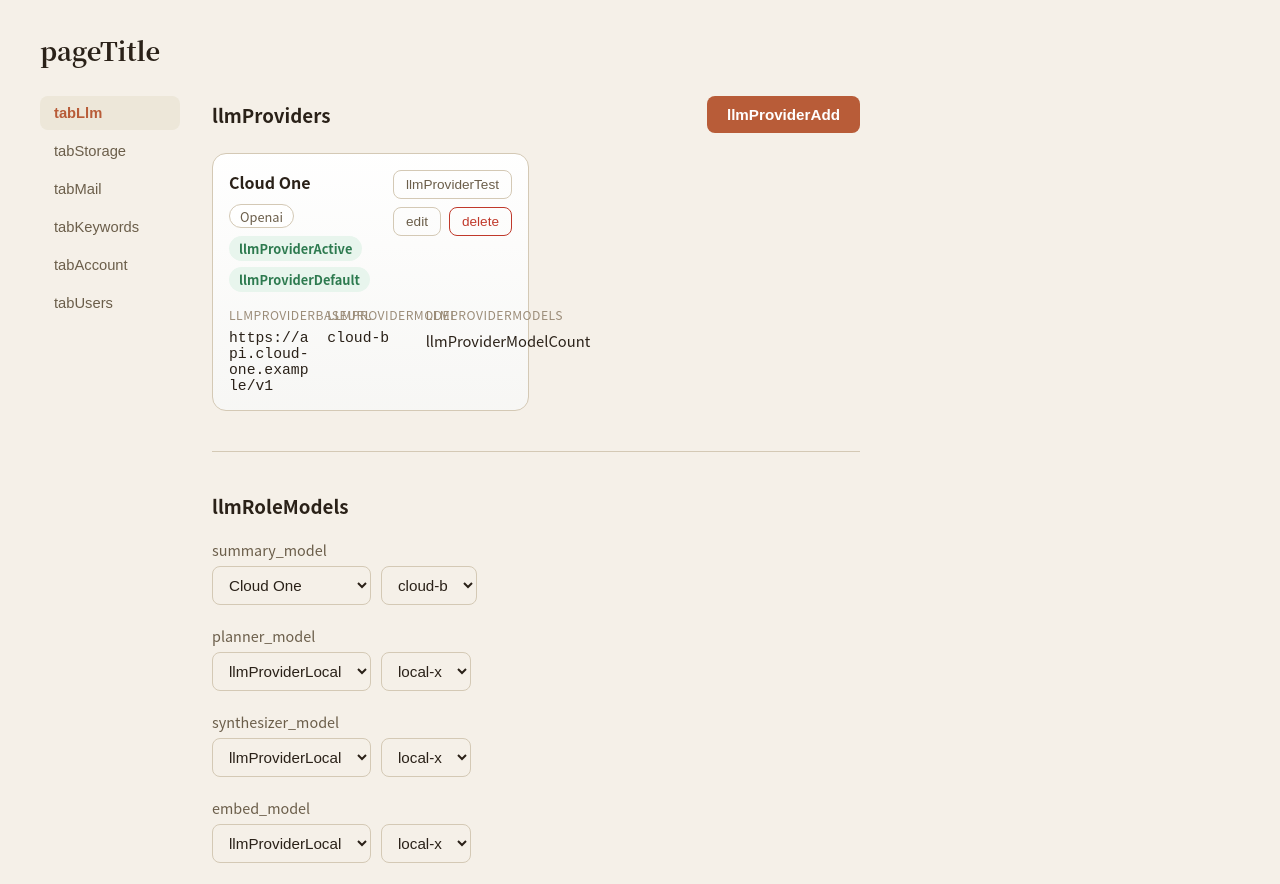
Test case: Settings LLM provider/mobile behavior › keeps form open and blocks create when validation fails
Click the button "llmProviderAdd": (783, 114) [707, 96, 860, 133]
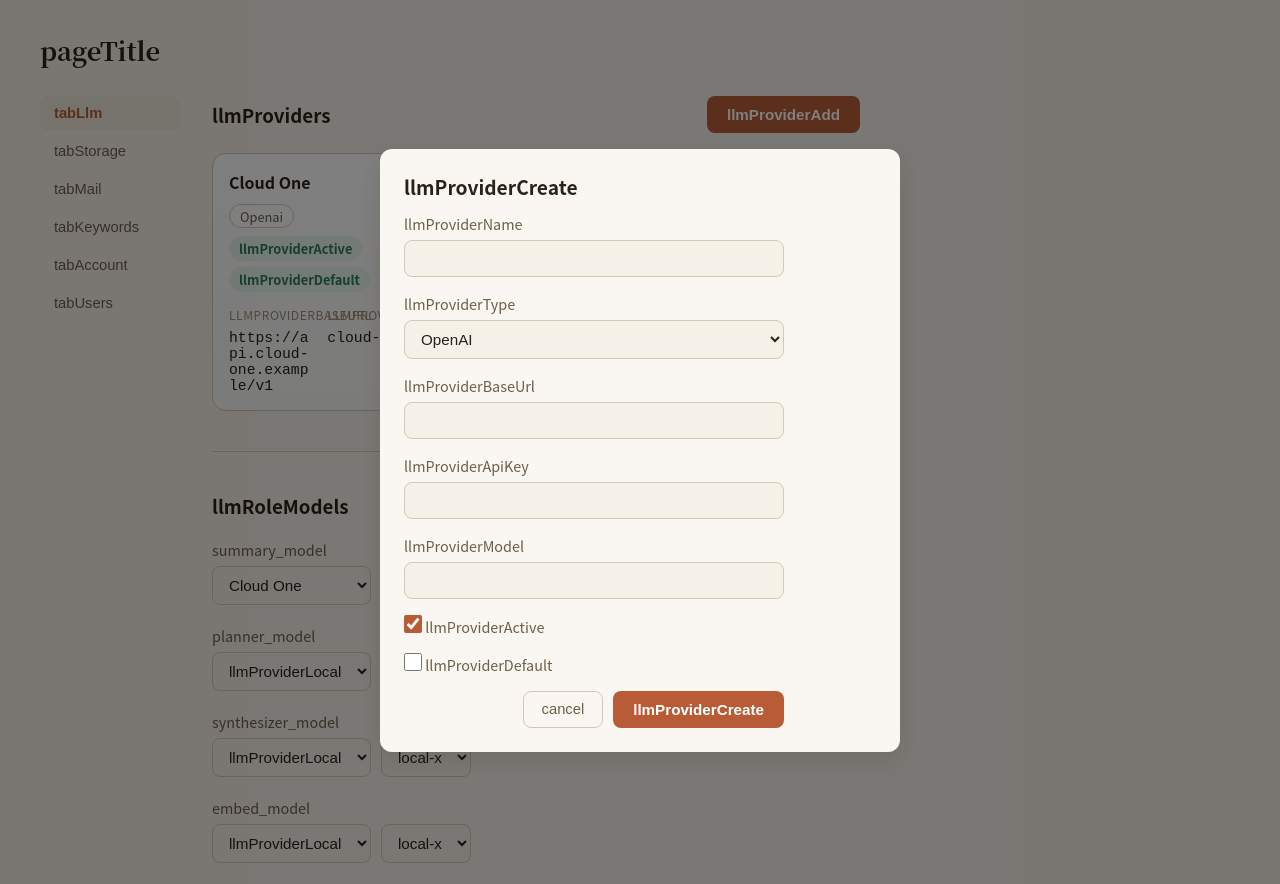
In the field below "llmProviderName": (594, 258) [404, 240, 784, 276], type "Cloud Two"
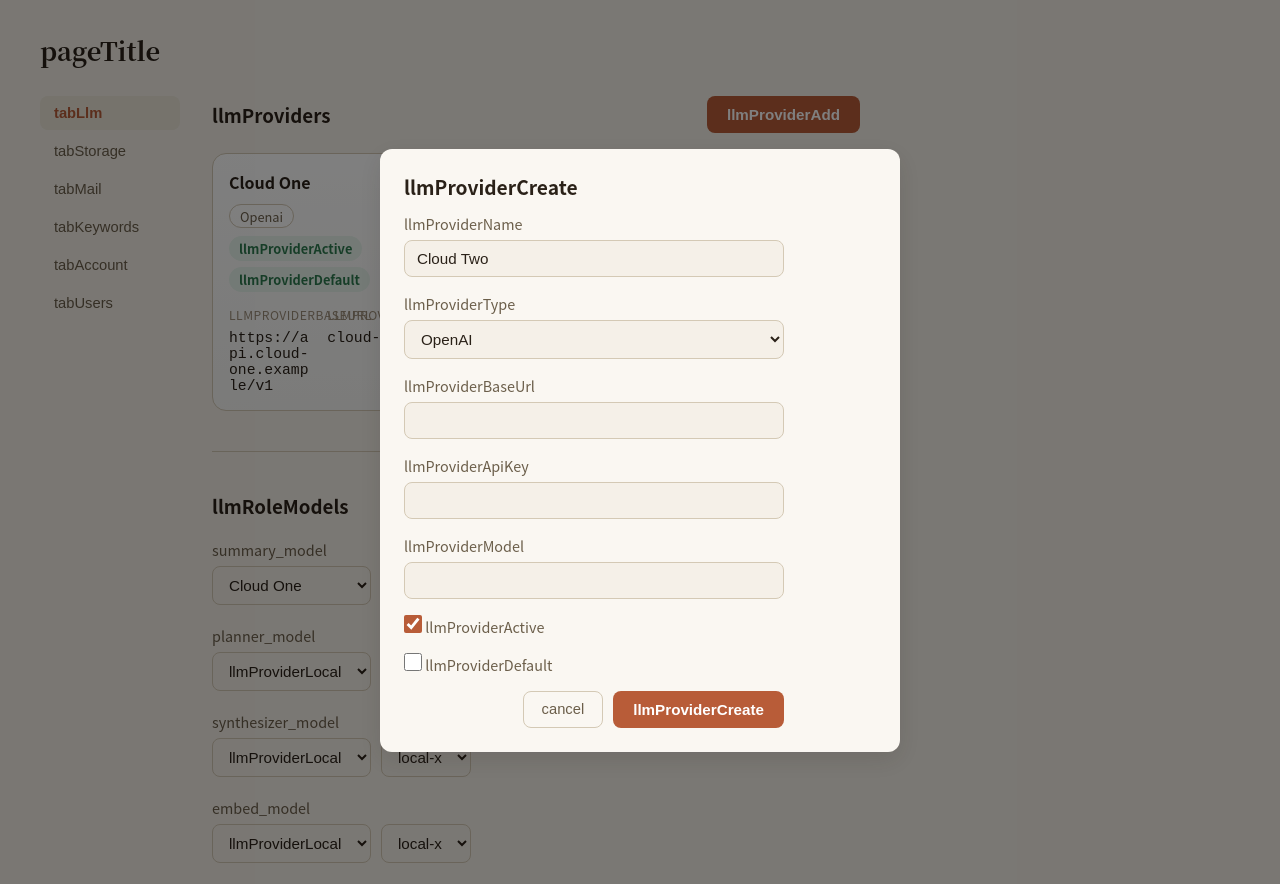
In the 2nd field: (594, 420) [404, 402, 784, 438], type "https://api.cloud-two.example/v1"
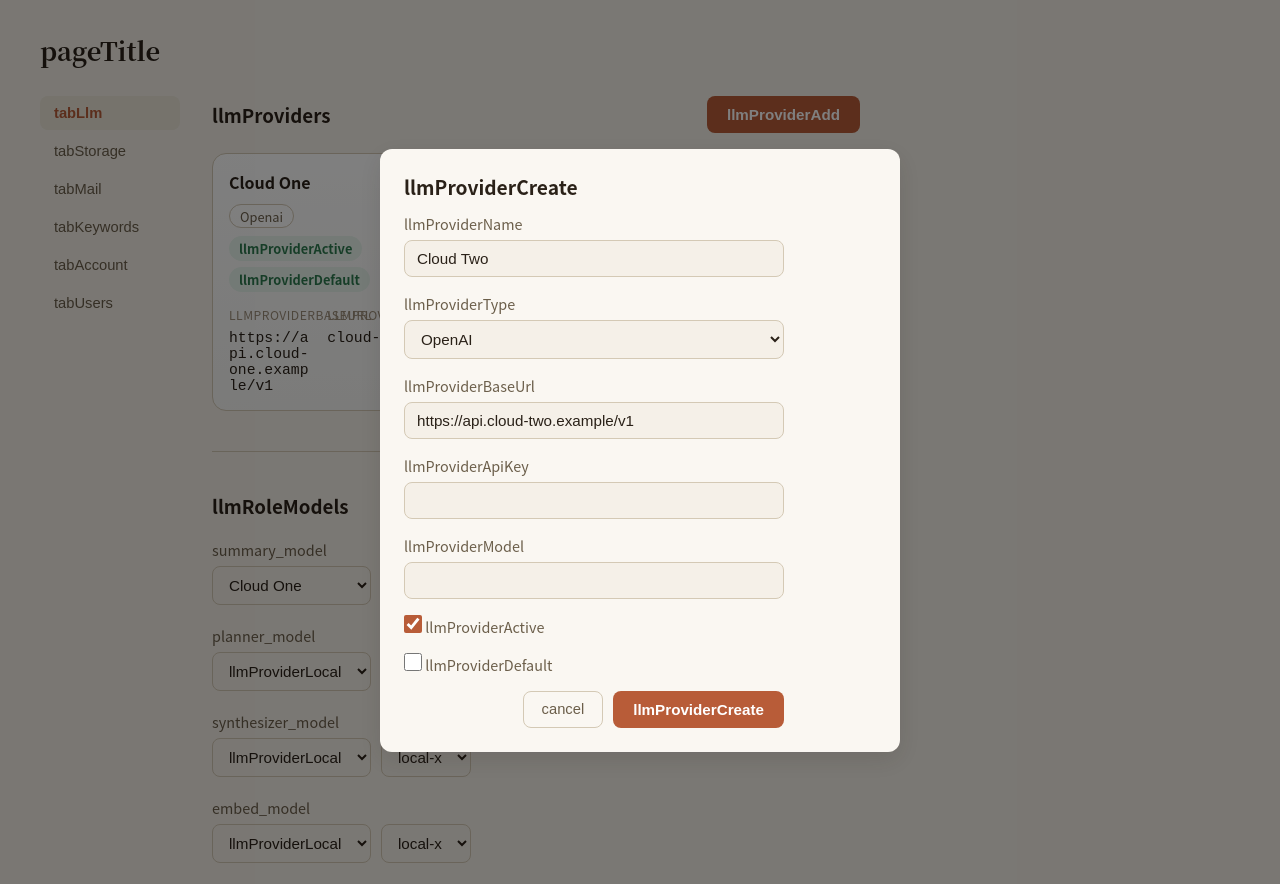
Submit the form with class "settings-form", box [404, 212, 784, 728]
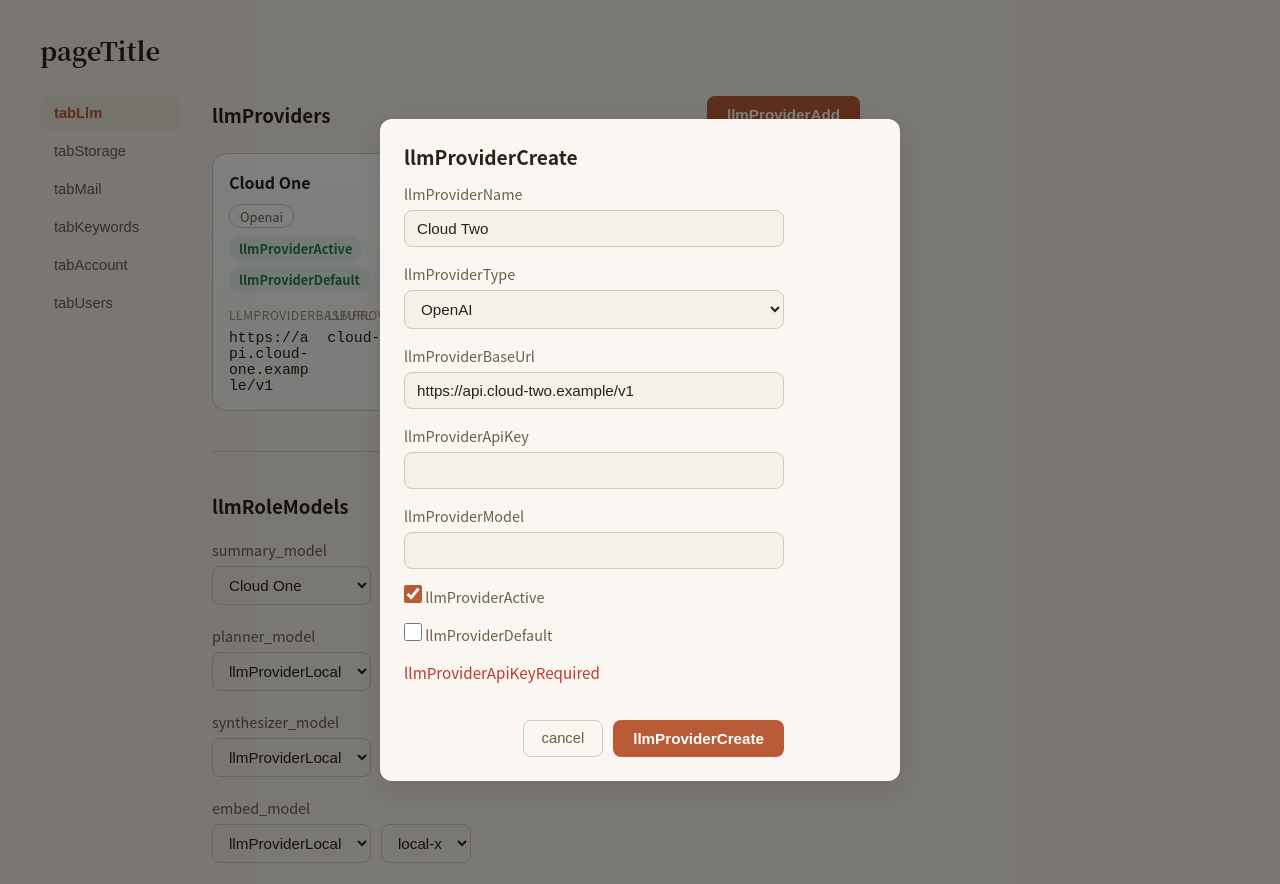
Expected: the form with class "settings-form" is shown, [404, 183, 784, 757]
Expected: the text "llmProviderApiKeyRequired" is shown, [404, 661, 600, 683]
